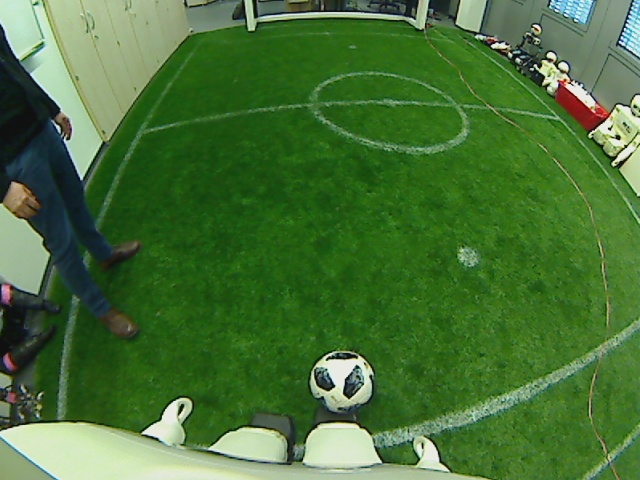ball: (306, 349, 376, 412)
